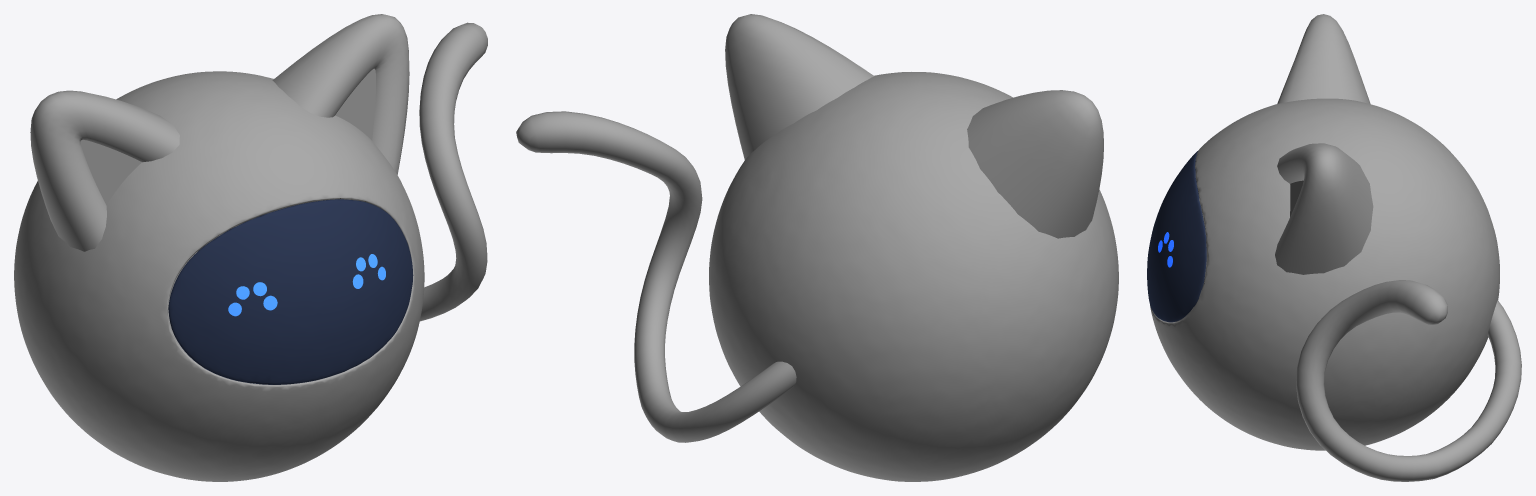
The model's file is robot.glb.
3 views of the same model, side by side, from view 1: azimuth 30°, elevation 25°; view 2: azimuth 150°, elevation 25°; view 3: azimuth 270°, elevation 25° (orthographic). The views are drawn at different scales.
Parts seen in each view (by area): view 1: Icosphere.003_5, Cube.002_3, Cube.001_2, Icosphere.001_4; view 2: Icosphere.003_5, Cube.002_3, Cube.001_2; view 3: Icosphere.003_5, Cube.001_2, Cube.002_3.
Boxes of the visible parts, x1,y1,x2,y2 form: Icosphere.003_5: (14, 71, 424, 481); Cube.002_3: (30, 14, 409, 251); Cube.001_2: (419, 22, 487, 321); Icosphere.001_4: (228, 254, 385, 316); Icosphere.003_5: (709, 72, 1118, 481); Cube.002_3: (725, 14, 1103, 238); Cube.001_2: (516, 111, 796, 442); Icosphere.003_5: (1147, 98, 1499, 450); Cube.001_2: (1296, 280, 1521, 481); Cube.002_3: (1275, 14, 1373, 274).
Bounding box in the file's own units: 2.66 × 2 × 1.94.
